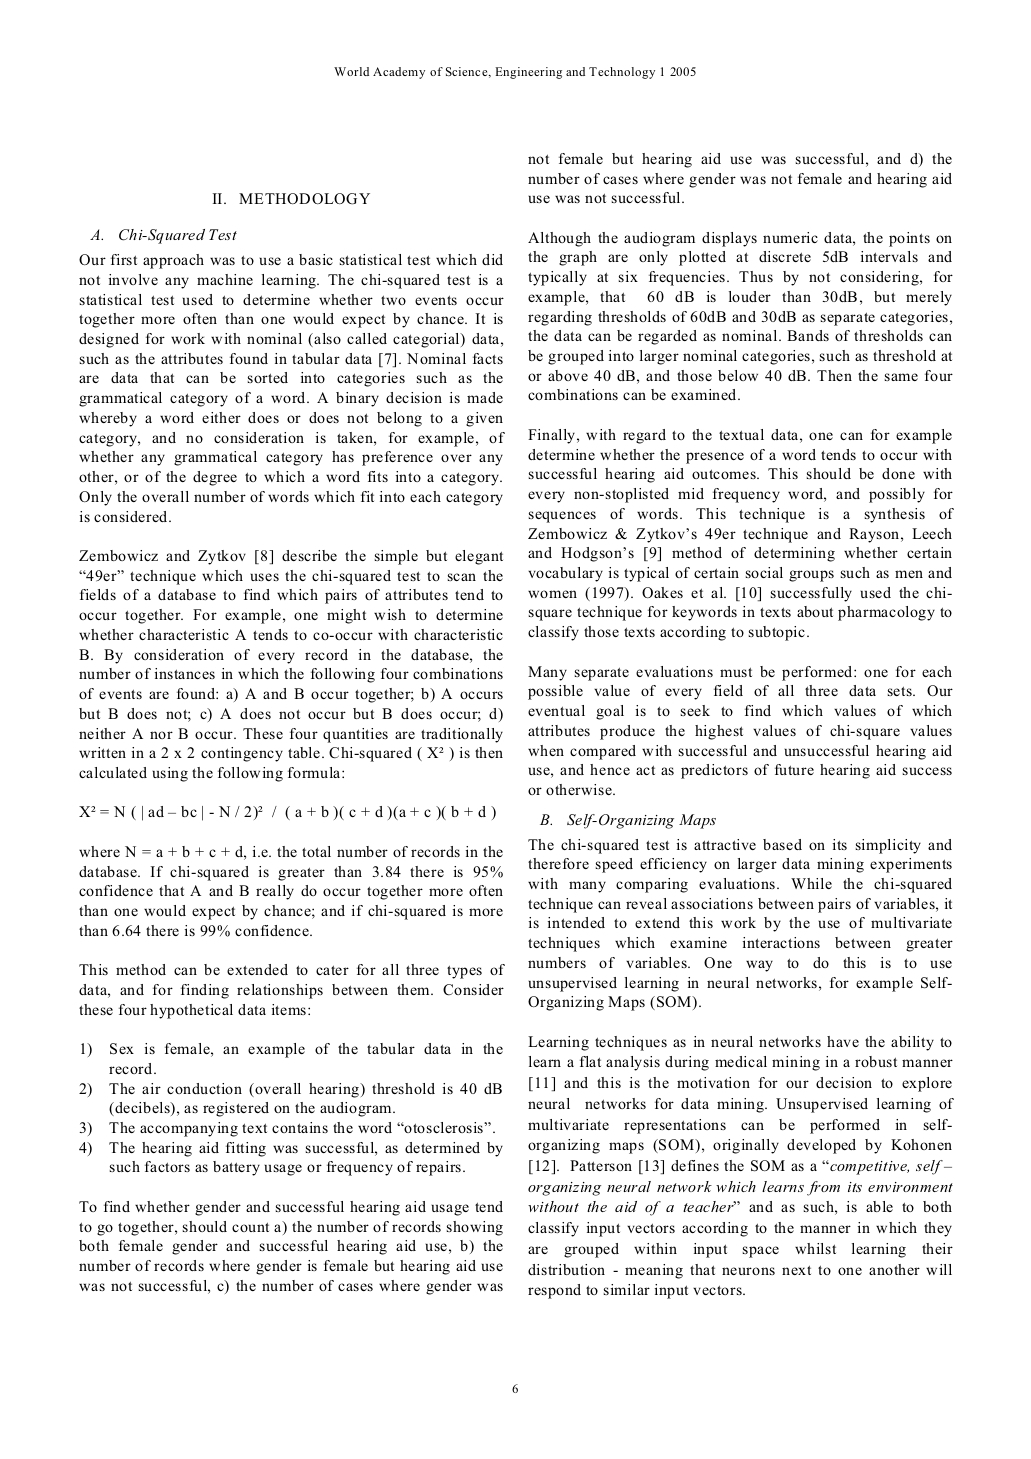formula: (79, 804, 495, 821)
